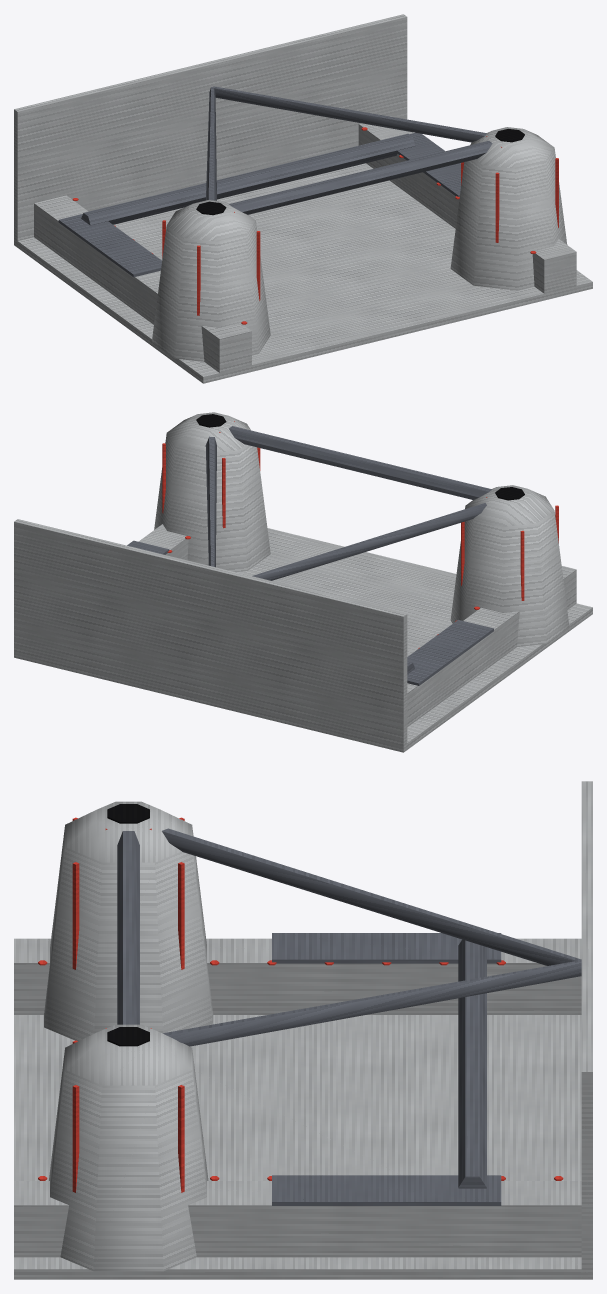
File: carroceria_comp_n4.glb
The picture shows the model from 3 angles, top to bottom: view 1: azimuth 30°, elevation 25°; view 2: azimuth 150°, elevation 25°; view 3: azimuth 270°, elevation 25°; orthographic projection. The views are drawn at different scales.
Parts seen in each view (by area): view 1: carroceria_comp_n4; view 2: carroceria_comp_n4; view 3: carroceria_comp_n4.
Boxes of the visible parts, x1=… form: carroceria_comp_n4: x1=14, y1=14, x2=592, y2=383; carroceria_comp_n4: x1=14, y1=412, x2=592, y2=752; carroceria_comp_n4: x1=14, y1=781, x2=592, y2=1279.
Bounding box in the file's own units: 1.22 × 0.404 × 1.01.
Materials: 2 (2 with a texture image).
